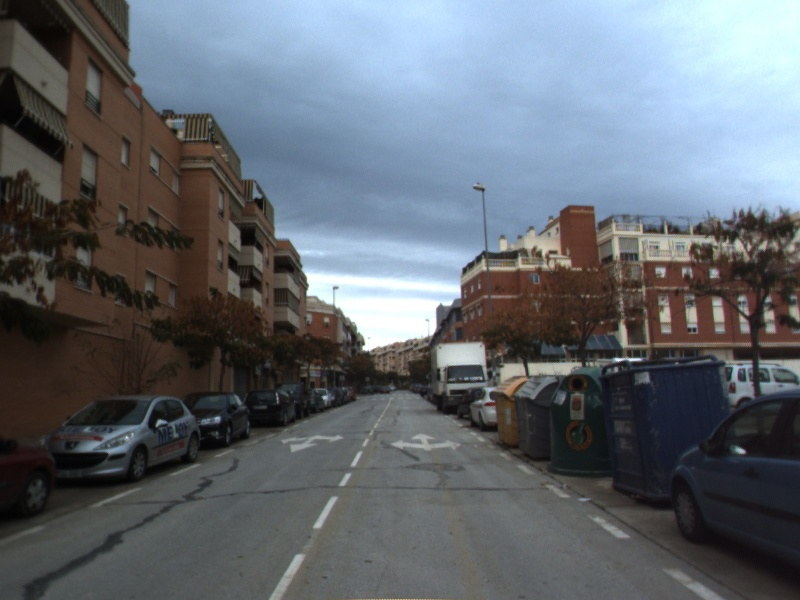STRAIGHT_LEFT_RIGHT: (389, 431, 464, 453)
